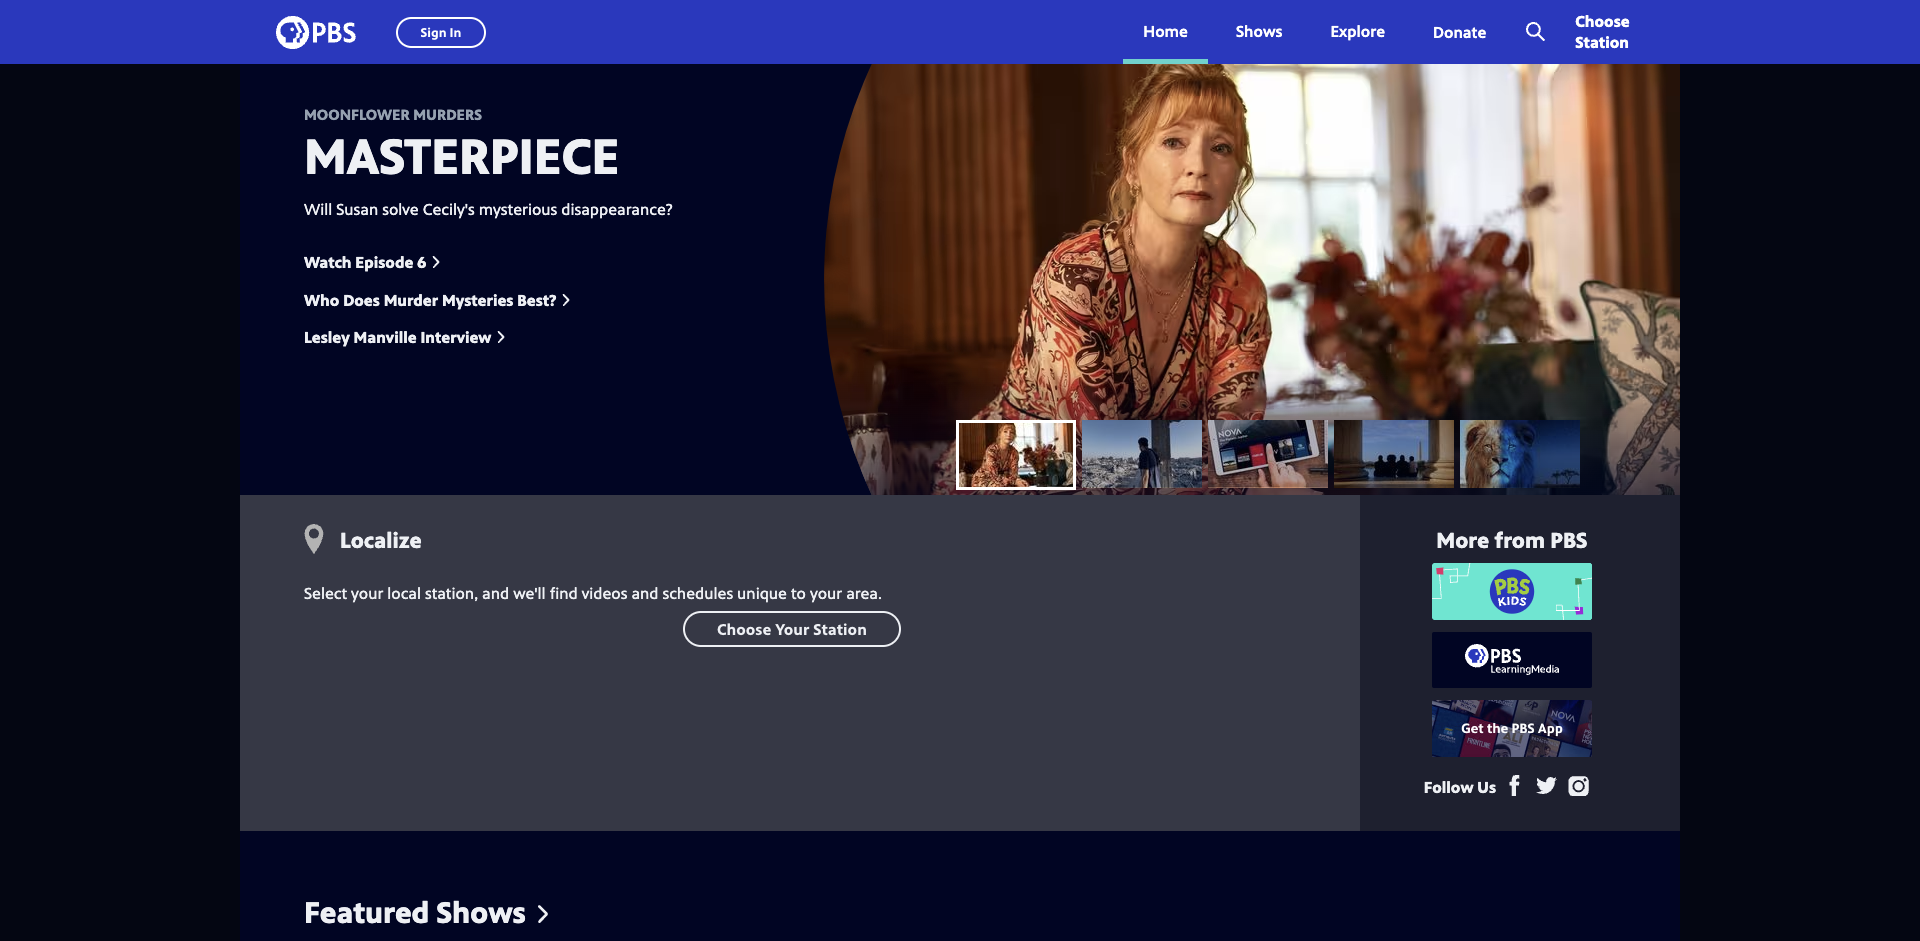button: (683, 611, 901, 647), (1413, 0, 1506, 62), (1565, 7, 1680, 58), (396, 17, 486, 48)
dropdown: (420, 23, 462, 40)
icon: (431, 251, 442, 273), (561, 289, 572, 311), (496, 326, 507, 348)
label: (956, 419, 1076, 486), (1082, 419, 1202, 486), (1209, 419, 1329, 486), (1333, 419, 1453, 486), (1460, 419, 1580, 486)
link: (818, 64, 1680, 495), (304, 121, 620, 189), (1431, 700, 1592, 757), (1431, 564, 1592, 620), (1431, 632, 1592, 689), (304, 198, 676, 221), (304, 894, 547, 928), (304, 104, 676, 124), (272, 0, 372, 64), (1310, 0, 1404, 64), (304, 289, 572, 311), (1216, 0, 1303, 64), (1123, 0, 1207, 64), (304, 326, 507, 348), (1506, 0, 1565, 64), (304, 251, 442, 273), (1504, 774, 1524, 794), (1536, 774, 1556, 794), (1569, 774, 1588, 794)
radio: (1322, 479, 1333, 493), (1449, 479, 1460, 493), (1071, 479, 1081, 493), (1198, 479, 1207, 493), (1575, 479, 1584, 493)
